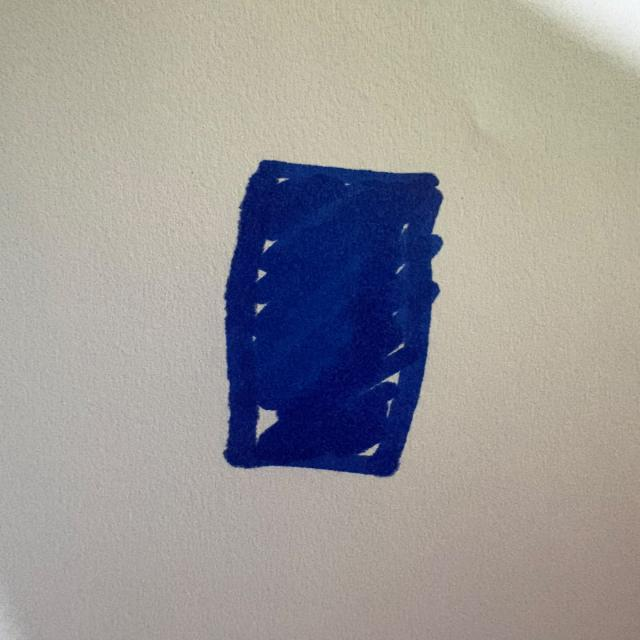Rectangle: (223, 160, 442, 477)
